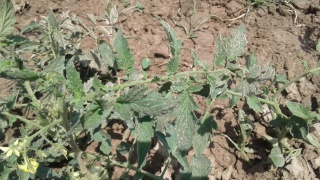tomato flower: (1, 138, 48, 174), (1, 139, 25, 159), (17, 155, 44, 172)
tomato plant: (58, 65, 215, 178), (2, 5, 80, 128)
